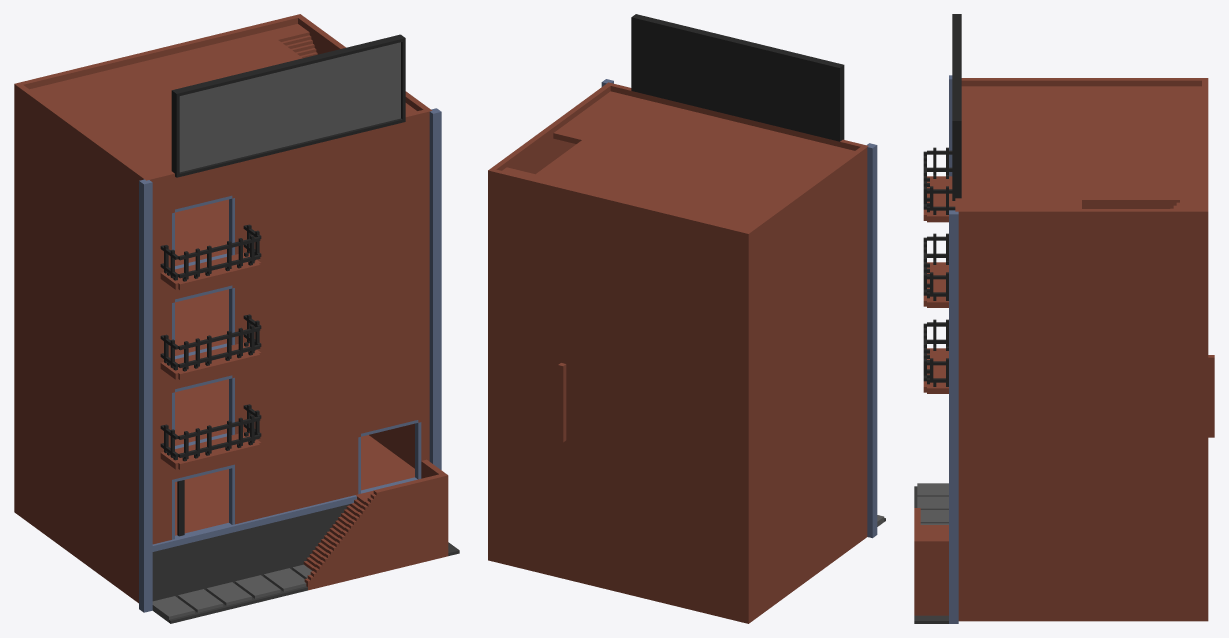
Rendered from Apartment0.obj.
The picture shows the model from 3 angles, left to right: view 1: azimuth 30°, elevation 25°; view 2: azimuth 150°, elevation 25°; view 3: azimuth 270°, elevation 25°; orthographic projection. The views are drawn at different scales.
Bounding box in the file's own units: 10.4 × 17 × 9.5.
Materials: 1 (1 with a texture image).
